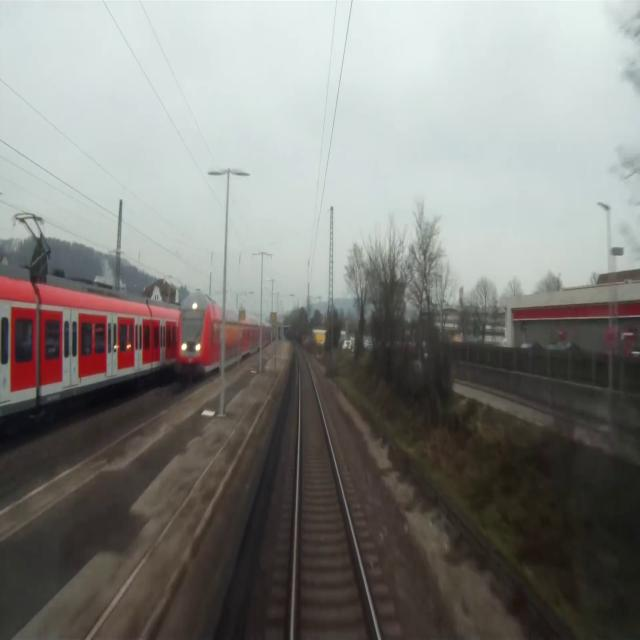rail-track: (295, 345, 377, 639)
